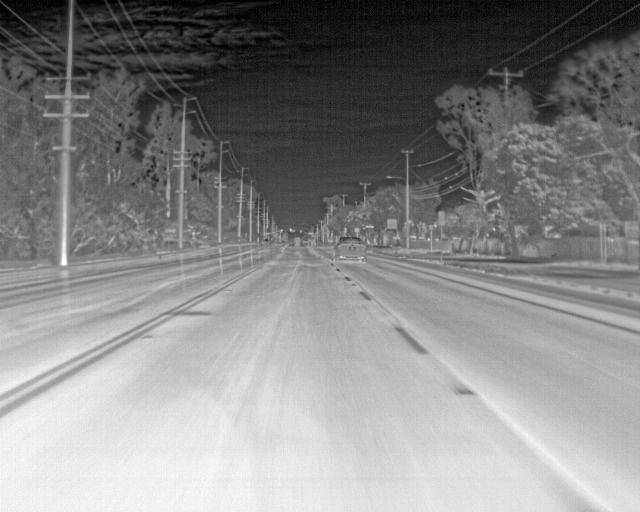car: (334, 236, 368, 264)
